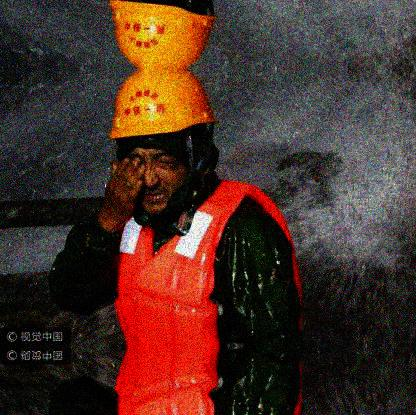helmet: (107, 69, 219, 215)
